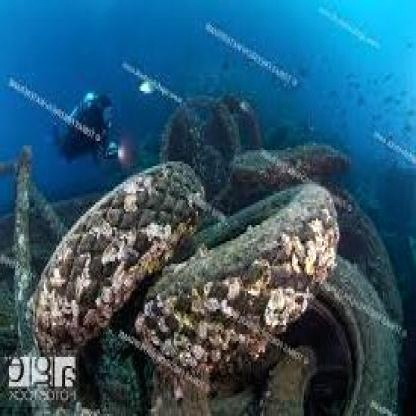tire: (32, 150, 190, 336), (168, 214, 325, 375), (286, 241, 413, 416), (168, 102, 259, 209)
